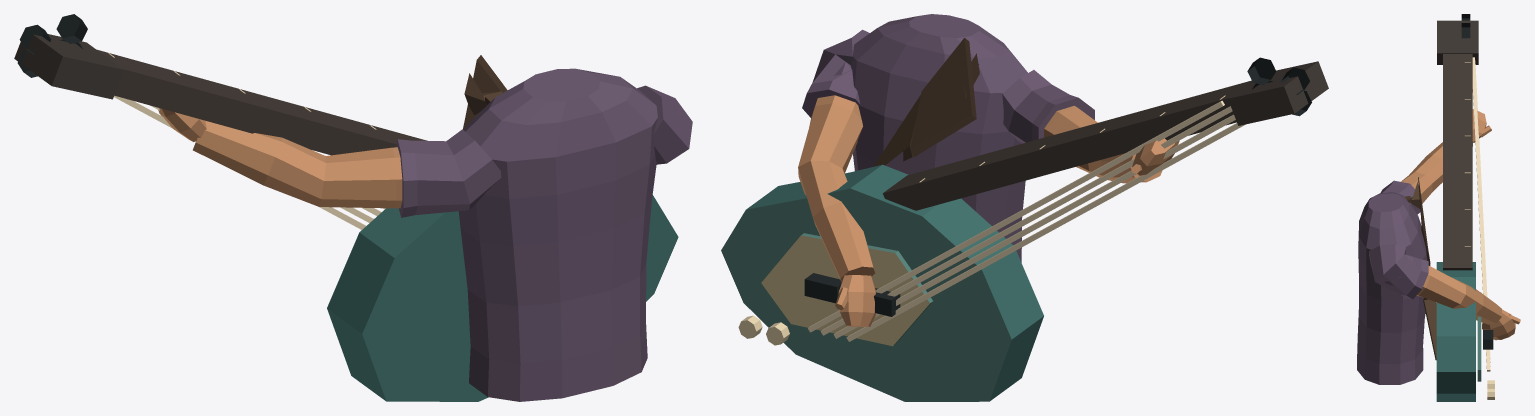
File: lwf_bassist_male_kit_v2.glb
3 renders of one model, left to right at view 1: azimuth 30°, elevation 25°; view 2: azimuth 150°, elevation 25°; view 3: azimuth 270°, elevation 25°, orthographic. The views are drawn at different scales.
Visible parts, largest first — view 1: LWF_Bassist_RightPlayingArm, LWF_Bassist_SolidBass, LWF_Bassist_LeftPlayingArm, LWF_Fitted_LeatherStrap; view 2: LWF_Bassist_SolidBass, LWF_Bassist_RightPlayingArm, LWF_Bassist_LeftPlayingArm, LWF_Fitted_LeatherStrap; view 3: LWF_Bassist_RightPlayingArm, LWF_Bassist_SolidBass, LWF_Bassist_LeftPlayingArm, LWF_Fitted_LeatherStrap.
Part boxes in pixels (box(x1,y1,x2,y2)): LWF_Bassist_RightPlayingArm: box(458, 68, 692, 401); LWF_Bassist_SolidBass: box(14, 14, 678, 401); LWF_Bassist_LeftPlayingArm: box(158, 108, 501, 217); LWF_Fitted_LeatherStrap: box(463, 55, 507, 129); LWF_Bassist_SolidBass: box(721, 57, 1328, 401); LWF_Bassist_RightPlayingArm: box(798, 14, 1027, 326); LWF_Bassist_LeftPlayingArm: box(1002, 70, 1179, 183); LWF_Fitted_LeatherStrap: box(873, 38, 979, 166); LWF_Bassist_RightPlayingArm: box(1357, 192, 1520, 384); LWF_Bassist_SolidBass: box(1436, 14, 1494, 401); LWF_Bassist_LeftPlayingArm: box(1380, 109, 1491, 214); LWF_Fitted_LeatherStrap: box(1405, 177, 1436, 360).
Bounding box in the file's own units: 1.17 × 0.8071 × 0.471.
3 materials, 3 textured.
